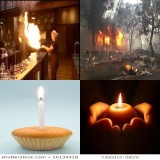fire: (24, 10, 40, 48), (96, 26, 123, 45), (35, 85, 45, 99), (117, 92, 123, 108), (125, 65, 131, 69), (93, 56, 95, 59), (110, 55, 112, 57), (104, 47, 105, 49)
